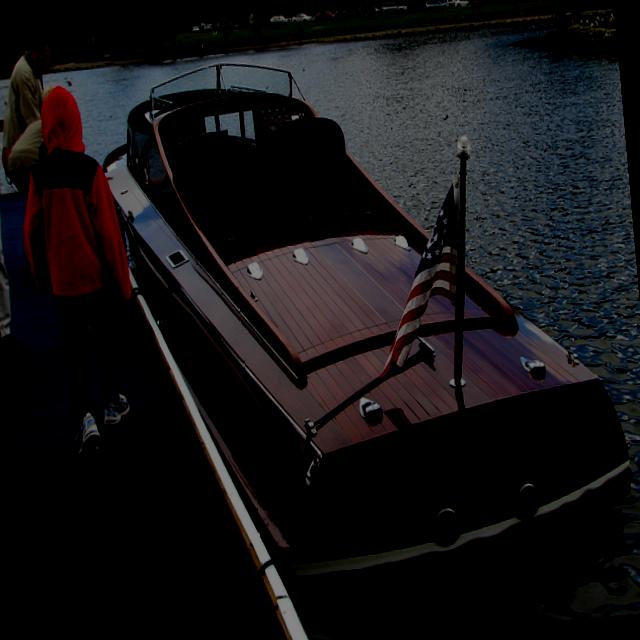Vehicle: (436, 0, 596, 10), (381, 2, 409, 15), (314, 8, 336, 22), (268, 14, 291, 26), (423, 0, 449, 10), (292, 10, 312, 23), (355, 5, 378, 16), (336, 8, 356, 18), (454, 0, 471, 8), (375, 5, 388, 14), (485, 0, 508, 5), (190, 23, 202, 32), (232, 23, 240, 29)
